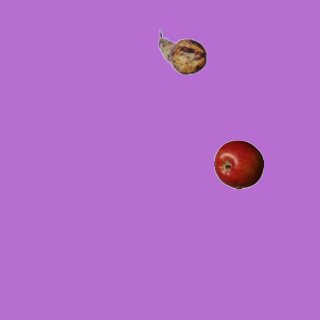Apple Braeburn: (213, 139, 263, 189)
Pear Abate: (157, 27, 207, 77)
